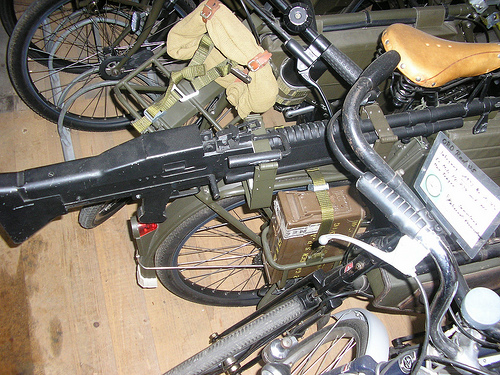rifle: (1, 91, 491, 245)
